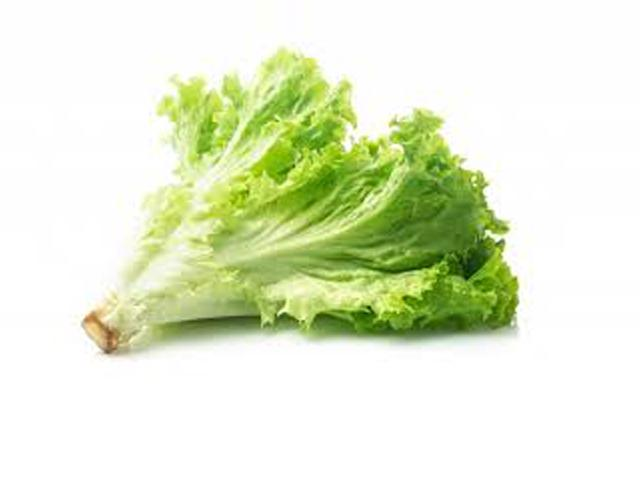lettuce: (57, 134, 409, 418)
